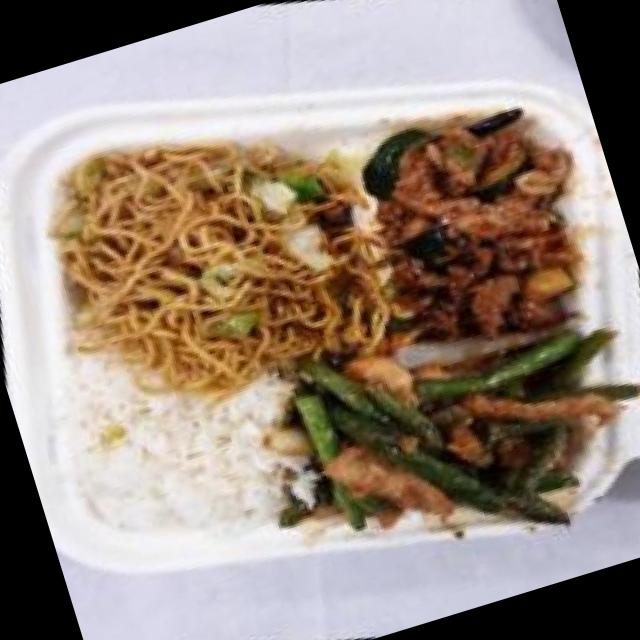Chow Mein: (0, 62, 426, 466)
Kung Pao Chicken: (313, 61, 636, 385)
String Bean Chicken Breast: (239, 239, 640, 625)
White Steamed Rice: (34, 315, 326, 580)
